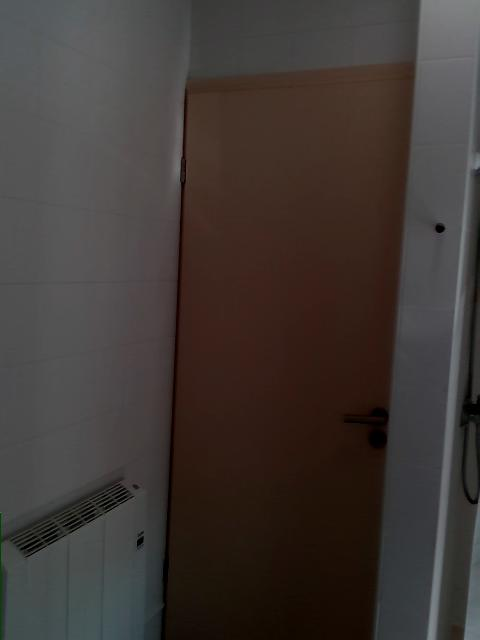closed_door: (159, 62, 413, 639)
